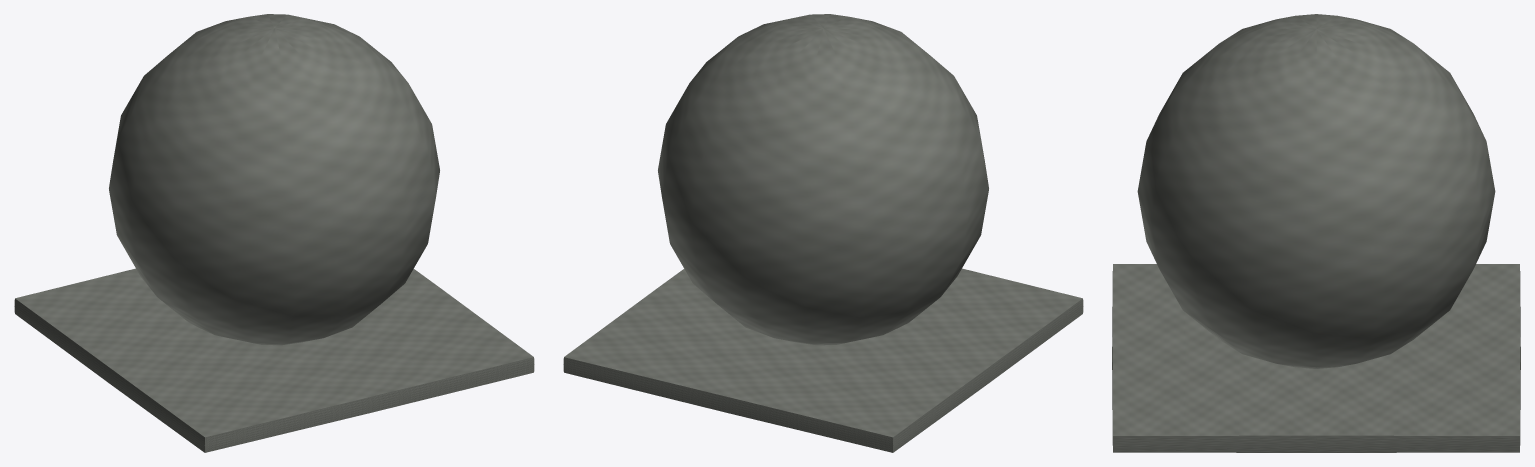
The picture shows the model from 3 angles, left to right: view 1: azimuth 30°, elevation 25°; view 2: azimuth 150°, elevation 25°; view 3: azimuth 270°, elevation 25°; orthographic projection. The views are drawn at different scales.
Visible parts, largest first — view 1: surface.0, surface.1; view 2: surface.0, surface.1; view 3: surface.0, surface.1.
Part boxes in pixels (<box>): surface.0: <box>109,14,439,345</box>; surface.1: <box>14,268,534,452</box>; surface.0: <box>658,14,988,345</box>; surface.1: <box>563,268,1083,452</box>; surface.0: <box>1137,14,1495,368</box>; surface.1: <box>1112,264,1520,452</box>.
Size of the model in its own units: 0.8 by 0.73 by 0.8.
1 material, 1 textured.
